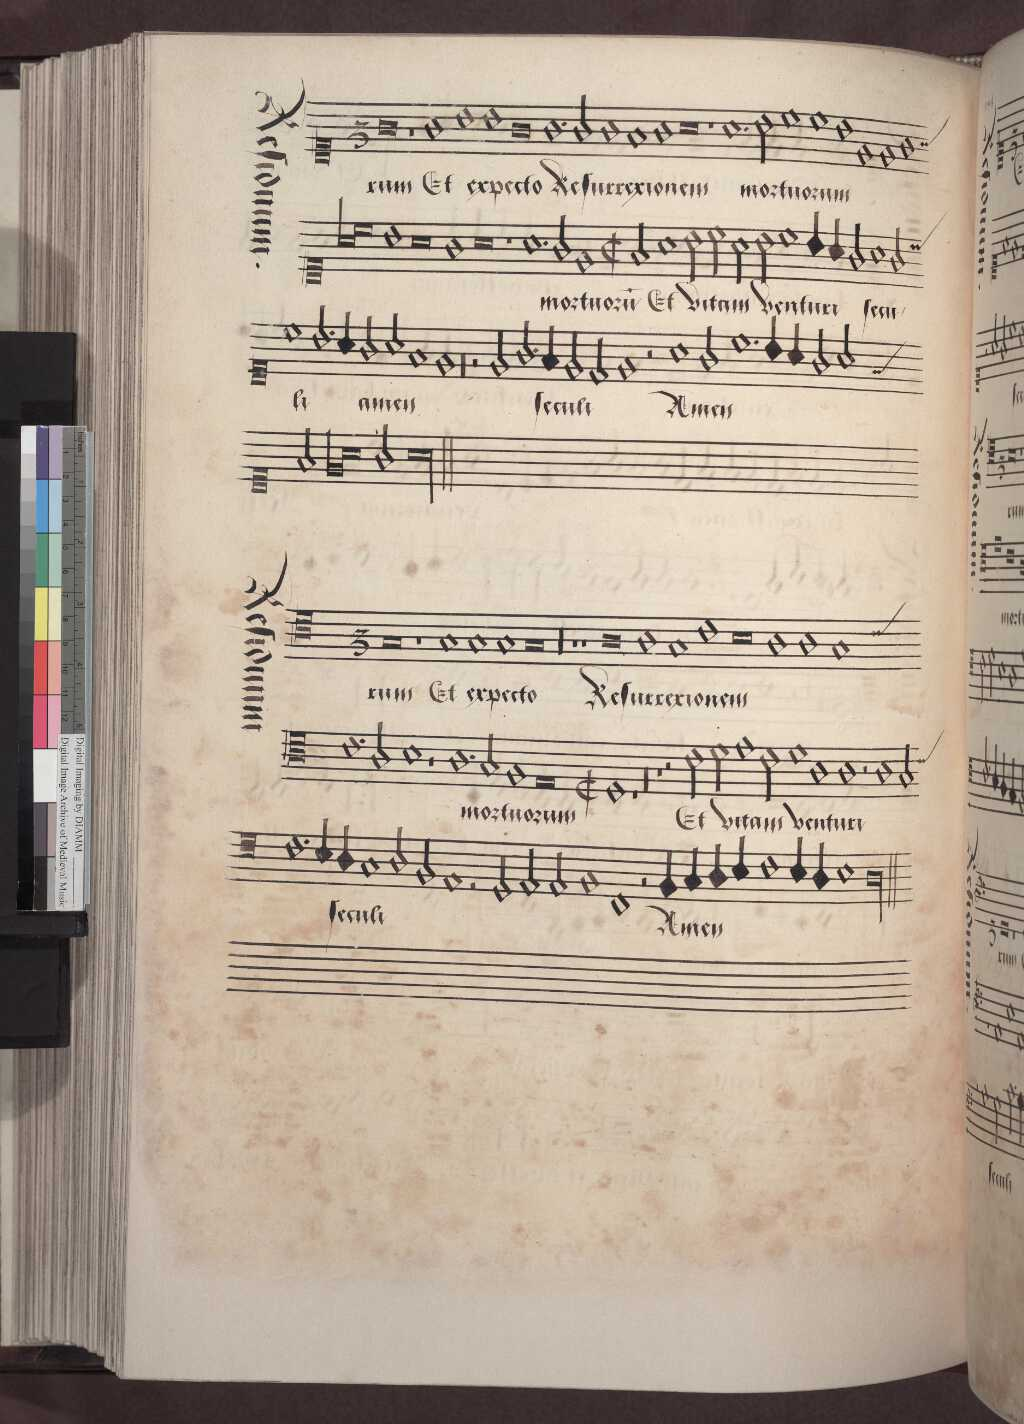barline: (438, 425, 460, 500)
c clef_11: (243, 456, 275, 504)
l1semibreve_9: (322, 420, 346, 484)
l2semibreve_6: (341, 440, 363, 475)
longa_6: (400, 436, 439, 509)
minim_7: (372, 416, 396, 480)
minim_8: (295, 418, 317, 480)
